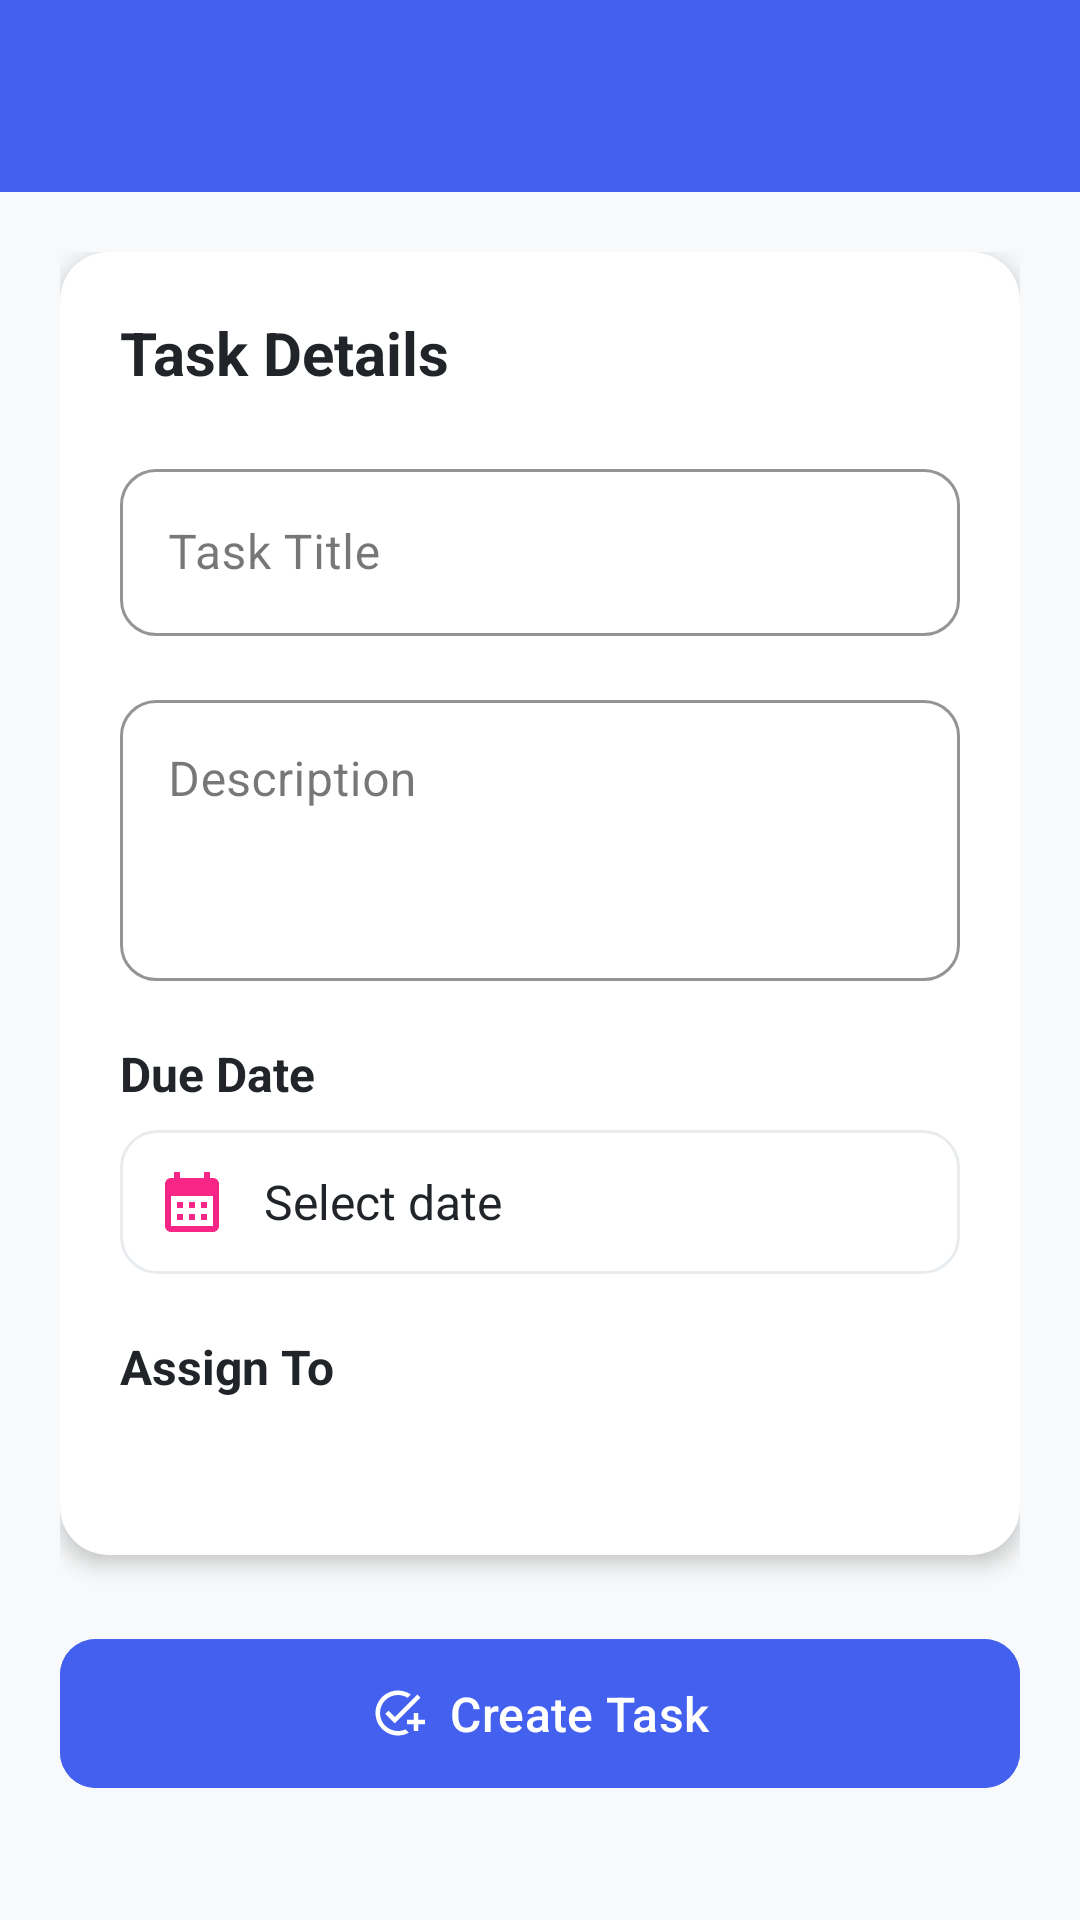

Screen size 1080w x 1920h. Icon name, then its center in pixels as [x,y]:
calendar due: [192,1202]
